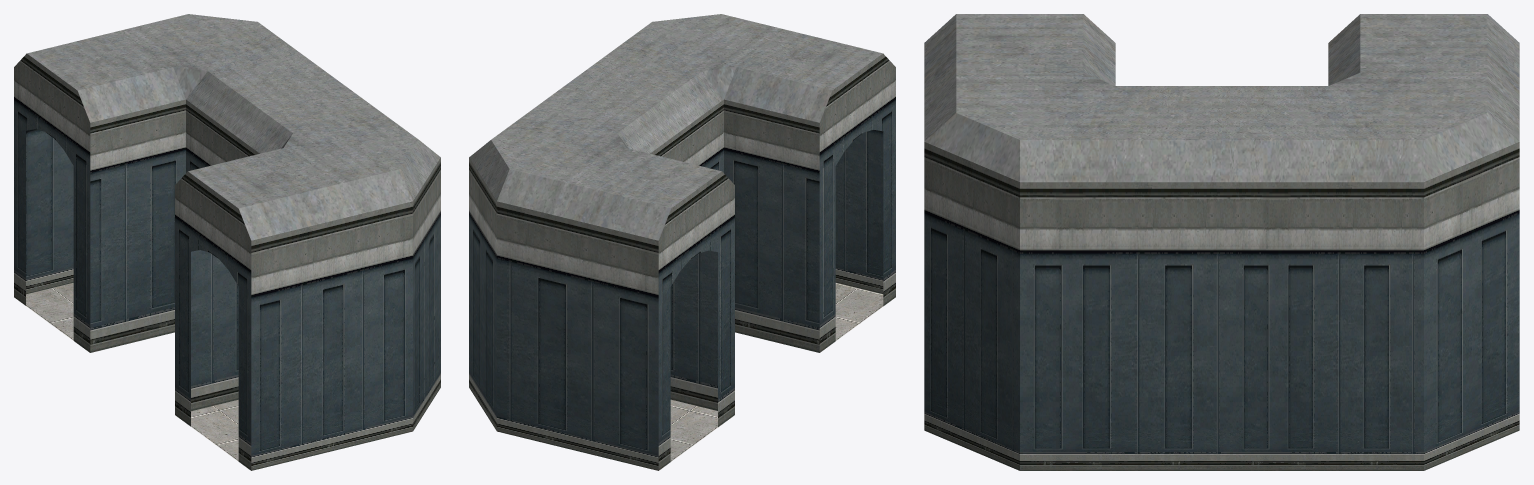
The model's file is thm_corl_imprv_slum_16x32_s02_r2_mesh_r2.fbx.
The picture shows the model from 3 angles, left to right: view 1: azimuth 30°, elevation 25°; view 2: azimuth 150°, elevation 25°; view 3: azimuth 270°, elevation 25°; orthographic projection. The views are drawn at different scales.
Visible parts, largest first — view 1: mesh_node; view 2: mesh_node; view 3: mesh_node.
Part boxes in pixels (bbox=[...]): mesh_node: bbox=[14, 14, 440, 470]; mesh_node: bbox=[469, 14, 895, 470]; mesh_node: bbox=[924, 14, 1519, 470].
Size of the model in its own units: 4.14 by 4.4 by 7.47.
